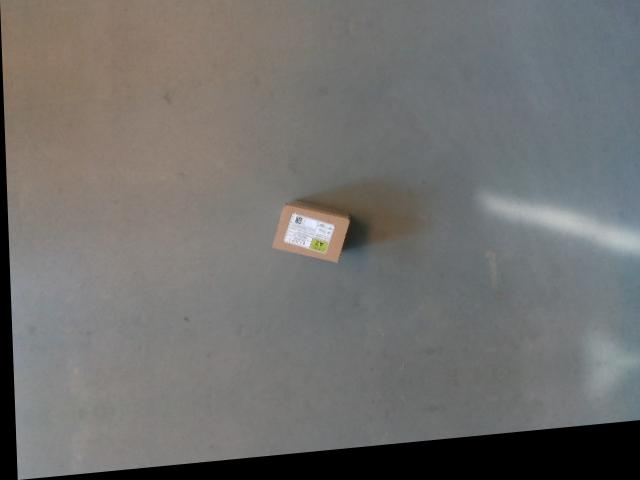label: (284, 213, 335, 255)
package: (272, 199, 350, 263)
